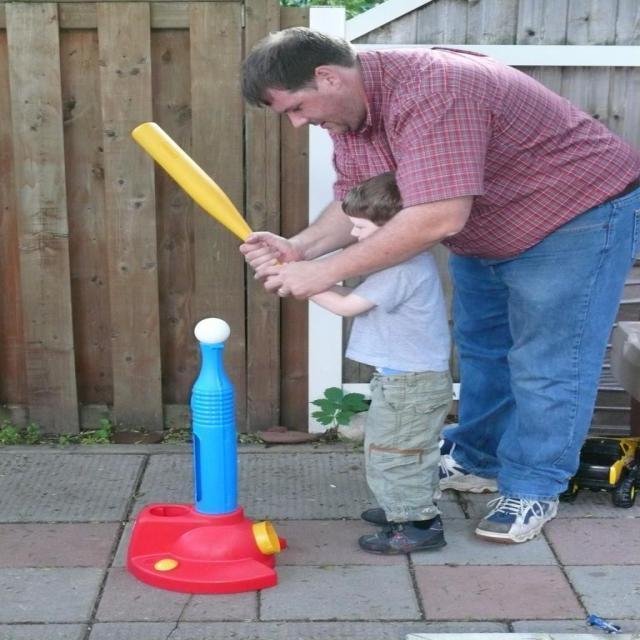ball: (190, 316, 234, 346)
bat: (123, 122, 255, 245)
